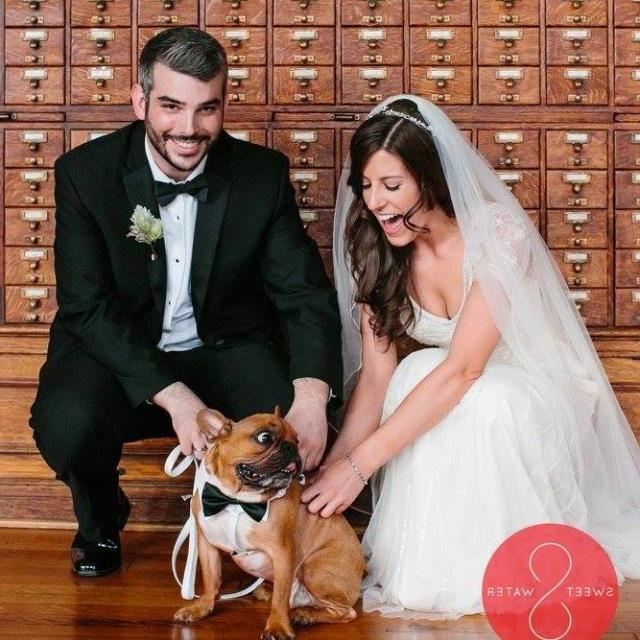adult: (24, 23, 334, 578), (298, 98, 590, 604)
